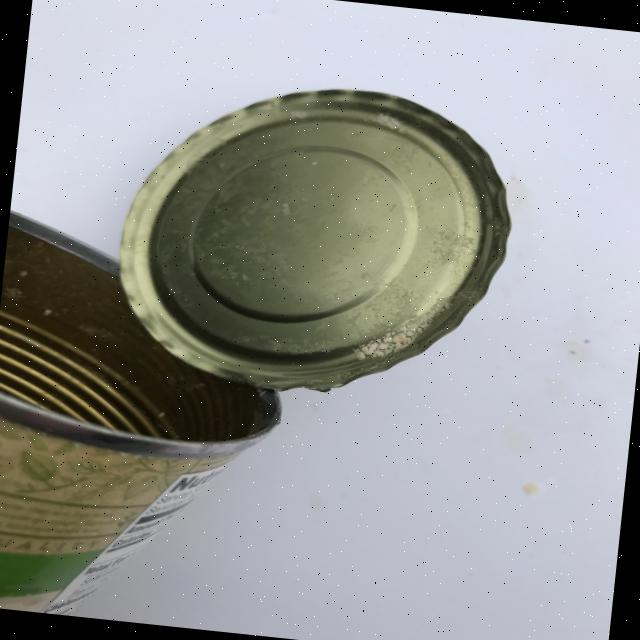metal: (104, 64, 524, 413)
